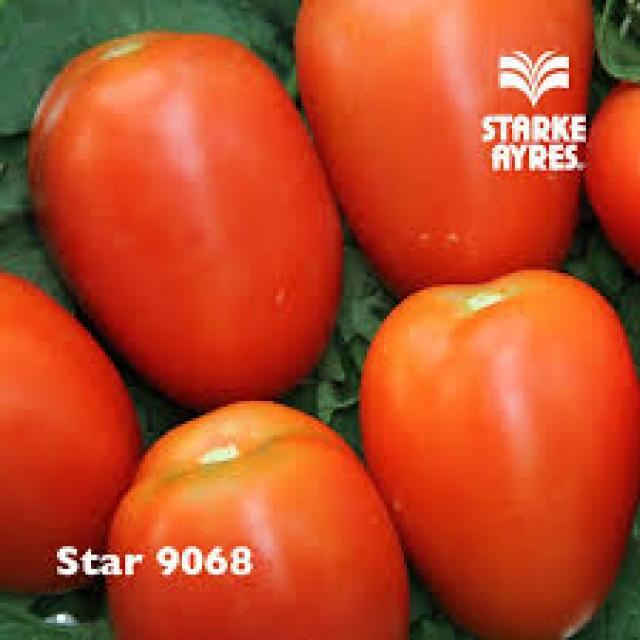Fresh_tomato: (32, 32, 328, 390), (361, 276, 626, 620), (293, 0, 583, 267), (122, 406, 371, 638), (0, 263, 138, 584)
